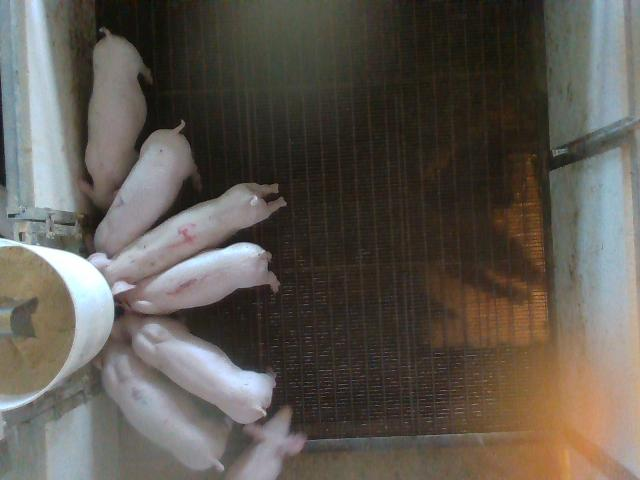pig-1: (119, 243, 280, 314)
pig-4: (90, 184, 286, 293)
